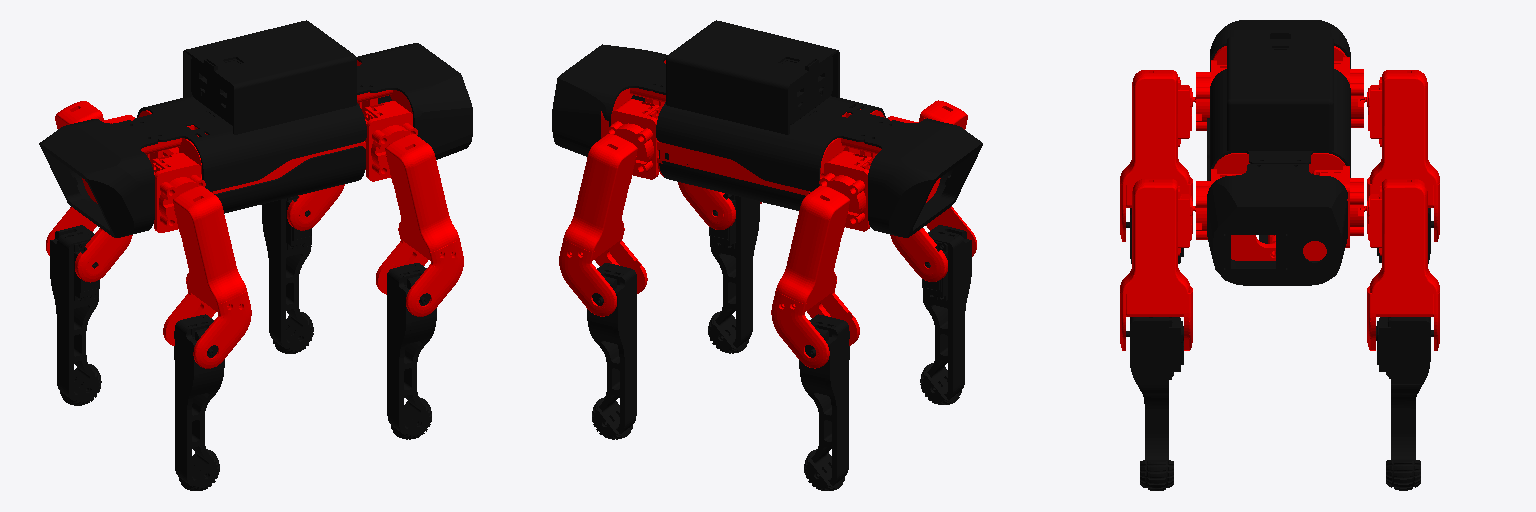
The robot description file, URDF, robot "SpotMicroAI":
<?xml version="1.0" ?>
<!-- =================================================================================== -->
<!-- |    This document was autogenerated by xacro from spotmicroean.urdf.xacro        | -->
<!-- |    EDITING THIS FILE BY HAND IS NOT RECOMMENDED                                 | -->
<!-- =================================================================================== -->
<robot name="SpotMicroAI">
  <material name="red">
    <color rgba="1.0 0.0 0.0 1"/>
  </material>
  <material name="black">
    <color rgba="0.1 0.1 0.1 1"/>
  </material>
  <material name="grey">
    <color rgba="0.6 0.6 0.6 1"/>
  </material>
  <!-- Params -->
  <!-- Macros -->
  <!-- Robot Body -->
  <link name="base_link">
    <visual>
      <geometry>
        <mesh filename="../meshes/stl_ean/STL/Base.STL" scale="0.001 0.001 0.001"/>
      </geometry>
      <material name="red"/>
      <origin rpy="0 0 -1.5707" xyz="-0.135 0.055 -0.032"/>
    </visual>
    <collision>
      <geometry>
        <box size="0.2 0.11 0.07"/>
      </geometry>
      <origin rpy="0 0 0" xyz="0 0 0"/>
    </collision>
    <inertial>
      <mass value="0.94447"/>
      <inertia ixx="0.00387805268" ixy="-0.00003434884" ixz="-0.0000169616" iyy="0.00109473849" iyz="0.00031562911" izz="0.00409615181"/>
    </inertial>
  </link>
  <link name="rear_link">
    <visual>
      <geometry>
        <mesh filename="../meshes/stl_ean/STL/bottom.STL" scale="0.001 0.001 0.001"/>
      </geometry>
      <origin rpy="0 0 -1.5707" xyz="-0.105 0.055 -0.034"/>
      <material name="black"/>
    </visual>
    <collision>
      <geometry>
        <box size="0.057 0.11 0.07"/>
      </geometry>
      <origin rpy="0 0 0" xyz="0.135 0 0"/>
    </collision>
    <inertial>
      <mass value="0.13415"/>
      <inertia ixx="0.00232587491" ixy="0.00000216754" ixz="-0.00000449969" iyy="0.00028517681" iyz="0.00020709387" izz="0.00238553813"/>
    </inertial>
  </link>
  <joint name="base_rear" type="fixed">
    <parent link="base_link"/>
    <child link="rear_link"/>
  </joint>
  <link name="front_link">
    <visual>
      <geometry>
        <mesh filename="../meshes/stl_ean/STL/top.STL" scale="0.001 0.001 0.001"/>
      </geometry>
      <origin rpy="0 0 -1.5707" xyz="-0.185 0.065 -0.033"/>
      <material name="black"/>
    </visual>
    <collision>
      <geometry>
        <box size="0.058 0.11 0.07"/>
      </geometry>
      <origin rpy="0 0 0" xyz="-0.145 0 0"/>
    </collision>
    <inertial>
      <mass value="0.71111"/>
      <inertia ixx="0.01411887885" ixy="0.00503508247" ixz="0.00329443443" iyy="0.00738644691" iyz="0.0057782151" izz="0.01388095362"/>
    </inertial>
  </link>
  <joint name="base_front" type="fixed">
    <parent link="base_link"/>
    <child link="front_link"/>
  </joint>
  <!-- create Legs -->
  <link name="front_left_shoulder_link">
    <visual>
      <geometry>
        <mesh filename="../meshes/stl_ean/STL/left_fordward_right_backward_shoulder.STL" scale="0.001 0.001 0.001"/>
      </geometry>
      <origin rpy="-1.5707 3.1416 0" xyz="0.028 -0.03 -0.029"/>
      <material name="red"/>
    </visual>
    <collision>
      <geometry>
        <box size="0.044 0.038 0.07"/>
      </geometry>
      <origin rpy="0 0 0" xyz="0 0 0"/>
    </collision>
    <inertial>
      <mass value="0.11427"/>
      <inertia ixx="0.00003172169" ixy="-0.00000014527" ixz="0.00000432731" iyy="0.00005316718" iyz="-0.000000500" izz="0.00006588791"/>
    </inertial>
  </link>
  <link name="front_left_leg_link">
    <visual>
      <geometry>
        <mesh filename="../meshes/stl_ean/STL/left_arm.STL" scale="0.001 0.001 0.001"/>
      </geometry>
      <origin rpy="3.1416 -1.8 0" xyz="-0.02 0.025 -0.132"/>
      <material name="red"/>
    </visual>
    <collision>
      <origin rpy="0.0 0.0 0.0" xyz="0.0 0.0 -0.050"/>
      <geometry>
        <box size="0.028 0.036 0.12"/>
      </geometry>
    </collision>
    <inertial>
      <mass value="0.1942"/>
      <inertia ixx="0.00020999903" ixy="0.00033247456" ixz="0.0002163401" iyy="0.00136287772" iyz="0.00006388282" izz="0.00146174584"/>
    </inertial>
  </link>
  <link name="front_left_foot_link">
    <visual>
      <geometry>
        <mesh filename="../meshes/stl_ean/STL/left_wrist.STL" scale="0.001 0.001 0.001"/>
      </geometry>
      <origin rpy="1.5708 -1.5708 0" xyz="0.023 0.018 -.133"/>
      <material name="black"/>
    </visual>
    <collision>
      <geometry>
        <box size="0.026 0.020 0.115"/>
      </geometry>
      <origin rpy="0.0 0.0 0.0" xyz="0.0 0.0 -0.050"/>
    </collision>
    <inertial>
      <mass value="0.1452"/>
      <inertia ixx="0.00007223092" ixy="0.00001951089" ixz="0.00001265811" iyy="0.00027840078" iyz="0.00002203829" izz="0.00028998349"/>
    </inertial>
  </link>
  <link name="front_left_toe_link">
    <visual>
      <geometry>
        <mesh filename="../meshes/stl_ean/STL/Foot_Tip.STL" scale="0.001 0.001 0.001"/>
      </geometry>
      <origin rpy="0 2.35 0" xyz="0.00 0 0"/>
      <material name="grey"/>
    </visual>
    <collision>
      <geometry>
        <sphere radius="0.02"/>
      </geometry>
      <origin rpy="0 0 0" xyz="0 0 0"/>
      <contact_coefficients mu="1.1"/>
    </collision>
    <inertial>
      <mass value="0.0"/>
      <inertia ixx="0.0" ixy="0.0" ixz="0.0" iyy="0.0" iyz="0.0" izz="0.0"/>
    </inertial>
  </link>
  <joint name="joint_front_left_shoulder" type="revolute">
    <parent link="base_link"/>
    <child link="front_left_shoulder_link"/>
    <axis xyz="1 0 0"/>
    <origin rpy="0 0 0" xyz="-0.104 -0.038 0"/>
    <limit effort="1000.0" lower="-0.548" upper="0.548" velocity="0.7"/>
    <dynamics damping="0.0" friction="0.5"/>
  </joint>
  <joint name="joint_front_left_leg" type="revolute">
    <parent link="front_left_shoulder_link"/>
    <child link="front_left_leg_link"/>
    <axis xyz="0 1 0"/>
    <origin rpy="0 0 0" xyz="0 -0.052 0"/>
    <limit effort="1000.0" lower="-2.666" upper="1.548" velocity="0.5"/>
    <dynamics damping="0.0" friction="0.0"/>
  </joint>
  <joint name="joint_front_left_foot" type="revolute">
    <parent link="front_left_leg_link"/>
    <child link="front_left_foot_link"/>
    <axis xyz="0 1 0"/>
    <origin rpy="0 0 0" xyz="-0.01 0 -0.12"/>
    <limit effort="1000.0" lower="-0.1" upper="2.59" velocity="0.5"/>
    <dynamics damping="0.0" friction="0.5"/>
  </joint>
  <joint name="joint_front_left_toe" type="fixed">
    <parent link="front_left_foot_link"/>
    <child link="front_left_toe_link"/>
    <origin xyz="0 0 -0.115"/>
  </joint>
  <link name="front_right_shoulder_link">
    <visual>
      <geometry>
        <mesh filename="../meshes/stl_ean/STL/right_fordward_left_backward_shoulder.STL" scale="0.001 0.001 0.001"/>
      </geometry>
      <origin rpy="1.5707 0 0" xyz="-0.028 0.03 -0.027"/>
      <material name="red"/>
    </visual>
    <collision>
      <geometry>
        <box size="0.044 0.038 0.07"/>
      </geometry>
      <origin rpy="0 0 0" xyz="0 0 0"/>
    </collision>
    <inertial>
      <mass value="0.11427"/>
      <inertia ixx="0.00004878868" ixy="-0.0000003775" ixz="-0.00000017136" iyy="0.00004225848" iyz="-0.000000434" izz="0.00003791423"/>
    </inertial>
  </link>
  <link name="front_right_leg_link">
    <visual>
      <geometry>
        <mesh filename="../meshes/stl_ean/STL/right_arm.STL" scale="0.001 0.001 0.001"/>
      </geometry>
      <origin rpy="3.1416 -1.8 0" xyz="-0.02 0.039 -0.132"/>
      <material name="red"/>
    </visual>
    <collision>
      <origin rpy="0.0 0.0 0.0" xyz="0.0 0.0 -0.050"/>
      <geometry>
        <box size="0.028 0.036 0.12"/>
      </geometry>
    </collision>
    <inertial>
      <mass value="0.19412"/>
      <inertia ixx="0.00010075846" ixy="0.00001174271" ixz="0.00002227477" iyy="0.00028245225" iyz="-0.00000610061" izz="0.00027215429"/>
    </inertial>
  </link>
  <link name="front_right_foot_link">
    <visual>
      <geometry>
        <mesh filename="../meshes/stl_ean/STL/right_wrist.STL" scale="0.001 0.001 0.001"/>
      </geometry>
      <origin rpy="-1.5708 -1.5708 0" xyz="-0.013 -0.018 -.133"/>
      <material name="black"/>
    </visual>
    <collision>
      <geometry>
        <box size="0.026 0.020 0.115"/>
      </geometry>
      <origin rpy="0.0 0.0 0.0" xyz="0.0 0.0 -0.050"/>
    </collision>
    <inertial>
      <mass value="0.14521"/>
      <inertia ixx="0.00003908063" ixy="-0.00000081436" ixz="0.00003886203" iyy="0.0003689475" iyz="-0.00000004347" izz="0.00034737965"/>
    </inertial>
  </link>
  <link name="front_right_toe_link">
    <visual>
      <geometry>
        <mesh filename="../meshes/stl_ean/STL/Foot_Tip.STL" scale="0.001 0.001 0.001"/>
      </geometry>
      <origin rpy="0 2.35 0" xyz="0.00 0 0"/>
      <material name="grey"/>
    </visual>
    <collision>
      <geometry>
        <sphere radius="0.02"/>
      </geometry>
      <origin rpy="0 0 0" xyz="0 0 0"/>
      <contact_coefficients mu="1.1"/>
    </collision>
    <inertial>
      <mass value="0.0"/>
      <inertia ixx="0.0" ixy="0.0" ixz="0.0" iyy="0.0" iyz="0.0" izz="0.0"/>
    </inertial>
  </link>
  <joint name="joint_front_right_shoulder" type="revolute">
    <parent link="base_link"/>
    <child link="front_right_shoulder_link"/>
    <axis xyz="1 0 0"/>
    <origin rpy="0 0 0" xyz="-0.104 0.038 0"/>
    <limit effort="1000.0" lower="-0.548" upper="0.548" velocity="0.7"/>
    <dynamics damping="0.0" friction="0.5"/>
  </joint>
  <joint name="joint_front_right_leg" type="revolute">
    <parent link="front_right_shoulder_link"/>
    <child link="front_right_leg_link"/>
    <axis xyz="0 1 0"/>
    <origin rpy="0 0 0" xyz="0 0.052 0"/>
    <limit effort="1000.0" lower="-2.666" upper="1.548" velocity="0.5"/>
    <dynamics damping="0.0" friction="0.0"/>
  </joint>
  <joint name="joint_front_right_foot" type="revolute">
    <parent link="front_right_leg_link"/>
    <child link="front_right_foot_link"/>
    <axis xyz="0 1 0"/>
    <origin rpy="0 0 0" xyz="-0.01 0 -0.12"/>
    <limit effort="1000.0" lower="-0.1" upper="2.59" velocity="0.5"/>
    <dynamics damping="0.0" friction="0.5"/>
  </joint>
  <joint name="joint_front_right_toe" type="fixed">
    <parent link="front_right_foot_link"/>
    <child link="front_right_toe_link"/>
    <origin xyz="0 0 -0.115"/>
  </joint>
  <link name="rear_left_shoulder_link">
    <visual>
      <geometry>
        <mesh filename="../meshes/stl_ean/STL/left_fordward_right_backward_shoulder.STL" scale="0.001 0.001 0.001"/>
      </geometry>
      <origin rpy="-1.5707 3.1416 0" xyz="0.028 -0.03 -0.029"/>
      <material name="red"/>
    </visual>
    <collision>
      <geometry>
        <box size="0.044 0.038 0.07"/>
      </geometry>
      <origin rpy="0 0 0" xyz="0 0 0"/>
    </collision>
    <inertial>
      <mass value="0.11427"/>
      <inertia ixx="0.00003172169" ixy="-0.00000014527" ixz="0.00000432731" iyy="0.00005316718" iyz="-0.000000500" izz="0.00006588791"/>
    </inertial>
  </link>
  <link name="rear_left_leg_link">
    <visual>
      <geometry>
        <mesh filename="../meshes/stl_ean/STL/left_arm.STL" scale="0.001 0.001 0.001"/>
      </geometry>
      <origin rpy="3.1416 -1.8 0" xyz="-0.02 0.025 -0.132"/>
      <material name="red"/>
    </visual>
    <collision>
      <origin rpy="0.0 0.0 0.0" xyz="0.0 0.0 -0.050"/>
      <geometry>
        <box size="0.028 0.036 0.12"/>
      </geometry>
    </collision>
    <inertial>
      <mass value="0.1942"/>
      <inertia ixx="0.00020999903" ixy="0.00033247456" ixz="0.0002163401" iyy="0.00136287772" iyz="0.00006388282" izz="0.00146174584"/>
    </inertial>
  </link>
  <link name="rear_left_foot_link">
    <visual>
      <geometry>
        <mesh filename="../meshes/stl_ean/STL/left_wrist.STL" scale="0.001 0.001 0.001"/>
      </geometry>
      <origin rpy="1.5708 -1.5708 0" xyz="0.023 0.018 -.133"/>
      <material name="black"/>
    </visual>
    <collision>
      <geometry>
        <box size="0.026 0.020 0.115"/>
      </geometry>
      <origin rpy="0.0 0.0 0.0" xyz="0.0 0.0 -0.050"/>
    </collision>
    <inertial>
      <mass value="0.1452"/>
      <inertia ixx="0.00007223092" ixy="0.00001951089" ixz="0.00001265811" iyy="0.00027840078" iyz="0.00002203829" izz="0.00028998349"/>
    </inertial>
  </link>
  <link name="rear_left_toe_link">
    <visual>
      <geometry>
        <mesh filename="../meshes/stl_ean/STL/Foot_Tip.STL" scale="0.001 0.001 0.001"/>
      </geometry>
      <origin rpy="0 2.35 0" xyz="0.00 0 0"/>
      <material name="grey"/>
    </visual>
    <collision>
      <geometry>
        <sphere radius="0.02"/>
      </geometry>
      <origin rpy="0 0 0" xyz="0 0 0"/>
      <contact_coefficients mu="1.1"/>
    </collision>
    <inertial>
      <mass value="0.0"/>
      <inertia ixx="0.0" ixy="0.0" ixz="0.0" iyy="0.0" iyz="0.0" izz="0.0"/>
    </inertial>
  </link>
  <joint name="joint_rear_left_shoulder" type="revolute">
    <parent link="base_link"/>
    <child link="rear_left_shoulder_link"/>
    <axis xyz="1 0 0"/>
    <origin rpy="0 0 0" xyz="0.104 -0.038 0"/>
    <limit effort="1000.0" lower="-0.548" upper="0.548" velocity="0.7"/>
    <dynamics damping="0.0" friction="0.5"/>
  </joint>
  <joint name="joint_rear_left_leg" type="revolute">
    <parent link="rear_left_shoulder_link"/>
    <child link="rear_left_leg_link"/>
    <axis xyz="0 1 0"/>
    <origin rpy="0 0 0" xyz="0 -0.052 0"/>
    <limit effort="1000.0" lower="-2.666" upper="1.548" velocity="0.5"/>
    <dynamics damping="0.0" friction="0.0"/>
  </joint>
  <joint name="joint_rear_left_foot" type="revolute">
    <parent link="rear_left_leg_link"/>
    <child link="rear_left_foot_link"/>
    <axis xyz="0 1 0"/>
    <origin rpy="0 0 0" xyz="-0.01 0 -0.12"/>
    <limit effort="1000.0" lower="-0.1" upper="2.59" velocity="0.5"/>
    <dynamics damping="0.0" friction="0.5"/>
  </joint>
  <joint name="joint_rear_left_toe" type="fixed">
    <parent link="rear_left_foot_link"/>
    <child link="rear_left_toe_link"/>
    <origin xyz="0 0 -0.115"/>
  </joint>
  <link name="rear_right_shoulder_link">
    <visual>
      <geometry>
        <mesh filename="../meshes/stl_ean/STL/right_fordward_left_backward_shoulder.STL" scale="0.001 0.001 0.001"/>
      </geometry>
      <origin rpy="1.5707 0 0" xyz="-0.028 0.03 -0.027"/>
      <material name="red"/>
    </visual>
    <collision>
      <geometry>
        <box size="0.044 0.038 0.07"/>
      </geometry>
      <origin rpy="0 0 0" xyz="0 0 0"/>
    </collision>
    <inertial>
      <mass value="0.11427"/>
      <inertia ixx="0.00004878868" ixy="-0.0000003775" ixz="-0.00000017136" iyy="0.00004225848" iyz="-0.000000434" izz="0.00003791423"/>
    </inertial>
  </link>
  <link name="rear_right_leg_link">
    <visual>
      <geometry>
        <mesh filename="../meshes/stl_ean/STL/right_arm.STL" scale="0.001 0.001 0.001"/>
      </geometry>
      <origin rpy="3.1416 -1.8 0" xyz="-0.02 0.039 -0.132"/>
      <material name="red"/>
    </visual>
    <collision>
      <origin rpy="0.0 0.0 0.0" xyz="0.0 0.0 -0.050"/>
      <geometry>
        <box size="0.028 0.036 0.12"/>
      </geometry>
    </collision>
    <inertial>
      <mass value="0.19412"/>
      <inertia ixx="0.00010075846" ixy="0.00001174271" ixz="0.00002227477" iyy="0.00028245225" iyz="-0.00000610061" izz="0.00027215429"/>
    </inertial>
  </link>
  <link name="rear_right_foot_link">
    <visual>
      <geometry>
        <mesh filename="../meshes/stl_ean/STL/right_wrist.STL" scale="0.001 0.001 0.001"/>
      </geometry>
      <origin rpy="-1.5708 -1.5708 0" xyz="-0.013 -0.018 -.133"/>
      <material name="black"/>
    </visual>
    <collision>
      <geometry>
        <box size="0.026 0.020 0.115"/>
      </geometry>
      <origin rpy="0.0 0.0 0.0" xyz="0.0 0.0 -0.050"/>
    </collision>
    <inertial>
      <mass value="0.14521"/>
      <inertia ixx="0.00003908063" ixy="-0.00000081436" ixz="0.00003886203" iyy="0.0003689475" iyz="-0.00000004347" izz="0.00034737965"/>
    </inertial>
  </link>
  <link name="rear_right_toe_link">
    <visual>
      <geometry>
        <mesh filename="../meshes/stl_ean/STL/Foot_Tip.STL" scale="0.001 0.001 0.001"/>
      </geometry>
      <origin rpy="0 2.35 0" xyz="0.00 0 0"/>
      <material name="grey"/>
    </visual>
    <collision>
      <geometry>
        <sphere radius="0.02"/>
      </geometry>
      <origin rpy="0 0 0" xyz="0 0 0"/>
      <contact_coefficients mu="1.1"/>
    </collision>
    <inertial>
      <mass value="0.0"/>
      <inertia ixx="0.0" ixy="0.0" ixz="0.0" iyy="0.0" iyz="0.0" izz="0.0"/>
    </inertial>
  </link>
  <joint name="joint_rear_right_shoulder" type="revolute">
    <parent link="base_link"/>
    <child link="rear_right_shoulder_link"/>
    <axis xyz="1 0 0"/>
    <origin rpy="0 0 0" xyz="0.104 0.038 0"/>
    <limit effort="1000.0" lower="-0.548" upper="0.548" velocity="0.7"/>
    <dynamics damping="0.0" friction="0.5"/>
  </joint>
  <joint name="joint_rear_right_leg" type="revolute">
    <parent link="rear_right_shoulder_link"/>
    <child link="rear_right_leg_link"/>
    <axis xyz="0 1 0"/>
    <origin rpy="0 0 0" xyz="0 0.052 0"/>
    <limit effort="1000.0" lower="-2.666" upper="1.548" velocity="0.5"/>
    <dynamics damping="0.0" friction="0.0"/>
  </joint>
  <joint name="joint_rear_right_foot" type="revolute">
    <parent link="rear_right_leg_link"/>
    <child link="rear_right_foot_link"/>
    <axis xyz="0 1 0"/>
    <origin rpy="0 0 0" xyz="-0.01 0 -0.12"/>
    <limit effort="1000.0" lower="-0.1" upper="2.59" velocity="0.5"/>
    <dynamics damping="0.0" friction="0.5"/>
  </joint>
  <joint name="joint_rear_right_toe" type="fixed">
    <parent link="rear_right_foot_link"/>
    <child link="rear_right_toe_link"/>
    <origin xyz="0 0 -0.115"/>
  </joint>
</robot>

--- What the picture shows (computed from the rendered views, not written in the file) ---
The picture shows the robot from 3 angles, left to right: view 1: azimuth 30°, elevation 25°; view 2: azimuth 150°, elevation 25°; view 3: azimuth 270°, elevation 25°; orthographic projection.
Robot: SpotMicroAI — 19 links, 18 joints (12 revolute, 6 fixed); root link base_link; default pose: every joint at zero.
Visible links, largest first — view 1: front_link, rear_link, front_left_leg_link, rear_left_leg_link, front_right_foot_link, rear_left_foot_link, front_left_foot_link, rear_right_foot_link, front_right_leg_link, rear_left_shoulder_link, front_left_shoulder_link, base_link (+1 smaller); view 2: front_link, rear_link, front_right_leg_link, rear_right_leg_link, front_left_foot_link, rear_right_foot_link, front_right_foot_link, rear_left_foot_link, base_link, front_left_leg_link, rear_right_shoulder_link, front_right_shoulder_link (+1 smaller); view 3: front_link, rear_link, rear_right_leg_link, rear_left_leg_link, front_right_leg_link, front_left_leg_link, rear_right_foot_link, rear_left_foot_link, base_link, rear_right_shoulder_link, front_right_shoulder_link, front_left_shoulder_link (+1 smaller).
Boxes of the visible links, left/top/right/bottom form: front_link: left=39, top=20, right=369, bottom=237; rear_link: left=214, top=43, right=472, bottom=213; front_left_leg_link: left=163, top=186, right=251, bottom=368; rear_left_leg_link: left=376, top=134, right=463, bottom=316; front_right_foot_link: left=50, top=225, right=101, bottom=405; rear_left_foot_link: left=387, top=263, right=436, bottom=439; front_left_foot_link: left=174, top=314, right=224, bottom=490; rear_right_foot_link: left=262, top=196, right=313, bottom=353; front_right_leg_link: left=46, top=101, right=132, bottom=282; rear_left_shoulder_link: left=364, top=101, right=417, bottom=181; front_left_shoulder_link: left=152, top=153, right=205, bottom=232; base_link: left=82, top=60, right=412, bottom=203; front_link: left=653, top=20, right=982, bottom=237; rear_link: left=552, top=44, right=809, bottom=210; front_right_leg_link: left=771, top=186, right=859, bottom=368; rear_right_leg_link: left=559, top=134, right=647, bottom=316; front_left_foot_link: left=920, top=225, right=971, bottom=404; rear_right_foot_link: left=587, top=263, right=636, bottom=439; front_right_foot_link: left=799, top=314, right=849, bottom=490; rear_left_foot_link: left=708, top=193, right=759, bottom=353; base_link: left=601, top=60, right=940, bottom=202; front_left_leg_link: left=890, top=100, right=976, bottom=281; rear_right_shoulder_link: left=607, top=99, right=660, bottom=179; front_right_shoulder_link: left=819, top=151, right=872, bottom=231; front_link: left=1210, top=20, right=1350, bottom=180; rear_link: left=1207, top=118, right=1347, bottom=285; rear_right_leg_link: left=1360, top=179, right=1439, bottom=350; rear_left_leg_link: left=1120, top=179, right=1195, bottom=350; front_right_leg_link: left=1360, top=70, right=1439, bottom=241; front_left_leg_link: left=1120, top=70, right=1195, bottom=241; rear_right_foot_link: left=1376, top=317, right=1433, bottom=490; rear_left_foot_link: left=1126, top=317, right=1183, bottom=490; base_link: left=1213, top=46, right=1347, bottom=260; rear_right_shoulder_link: left=1312, top=166, right=1363, bottom=247; front_right_shoulder_link: left=1334, top=57, right=1363, bottom=127; front_left_shoulder_link: left=1196, top=60, right=1226, bottom=130.
Size in the robot's own frame: 0.3713 by 0.2583 by 0.3425 metres.
15 mesh visuals loaded from 10 distinct referenced files (9 binary STL); not drawn: 4 (reference not matched to a file when rendering).
